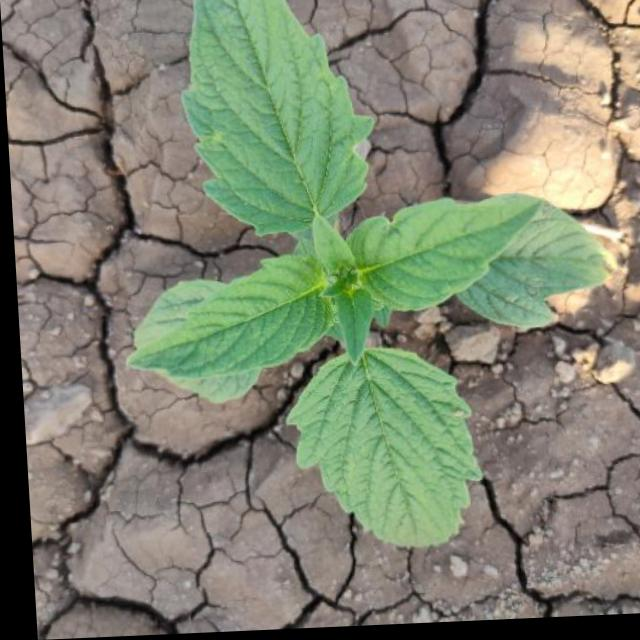crop: (89, 0, 618, 563)
